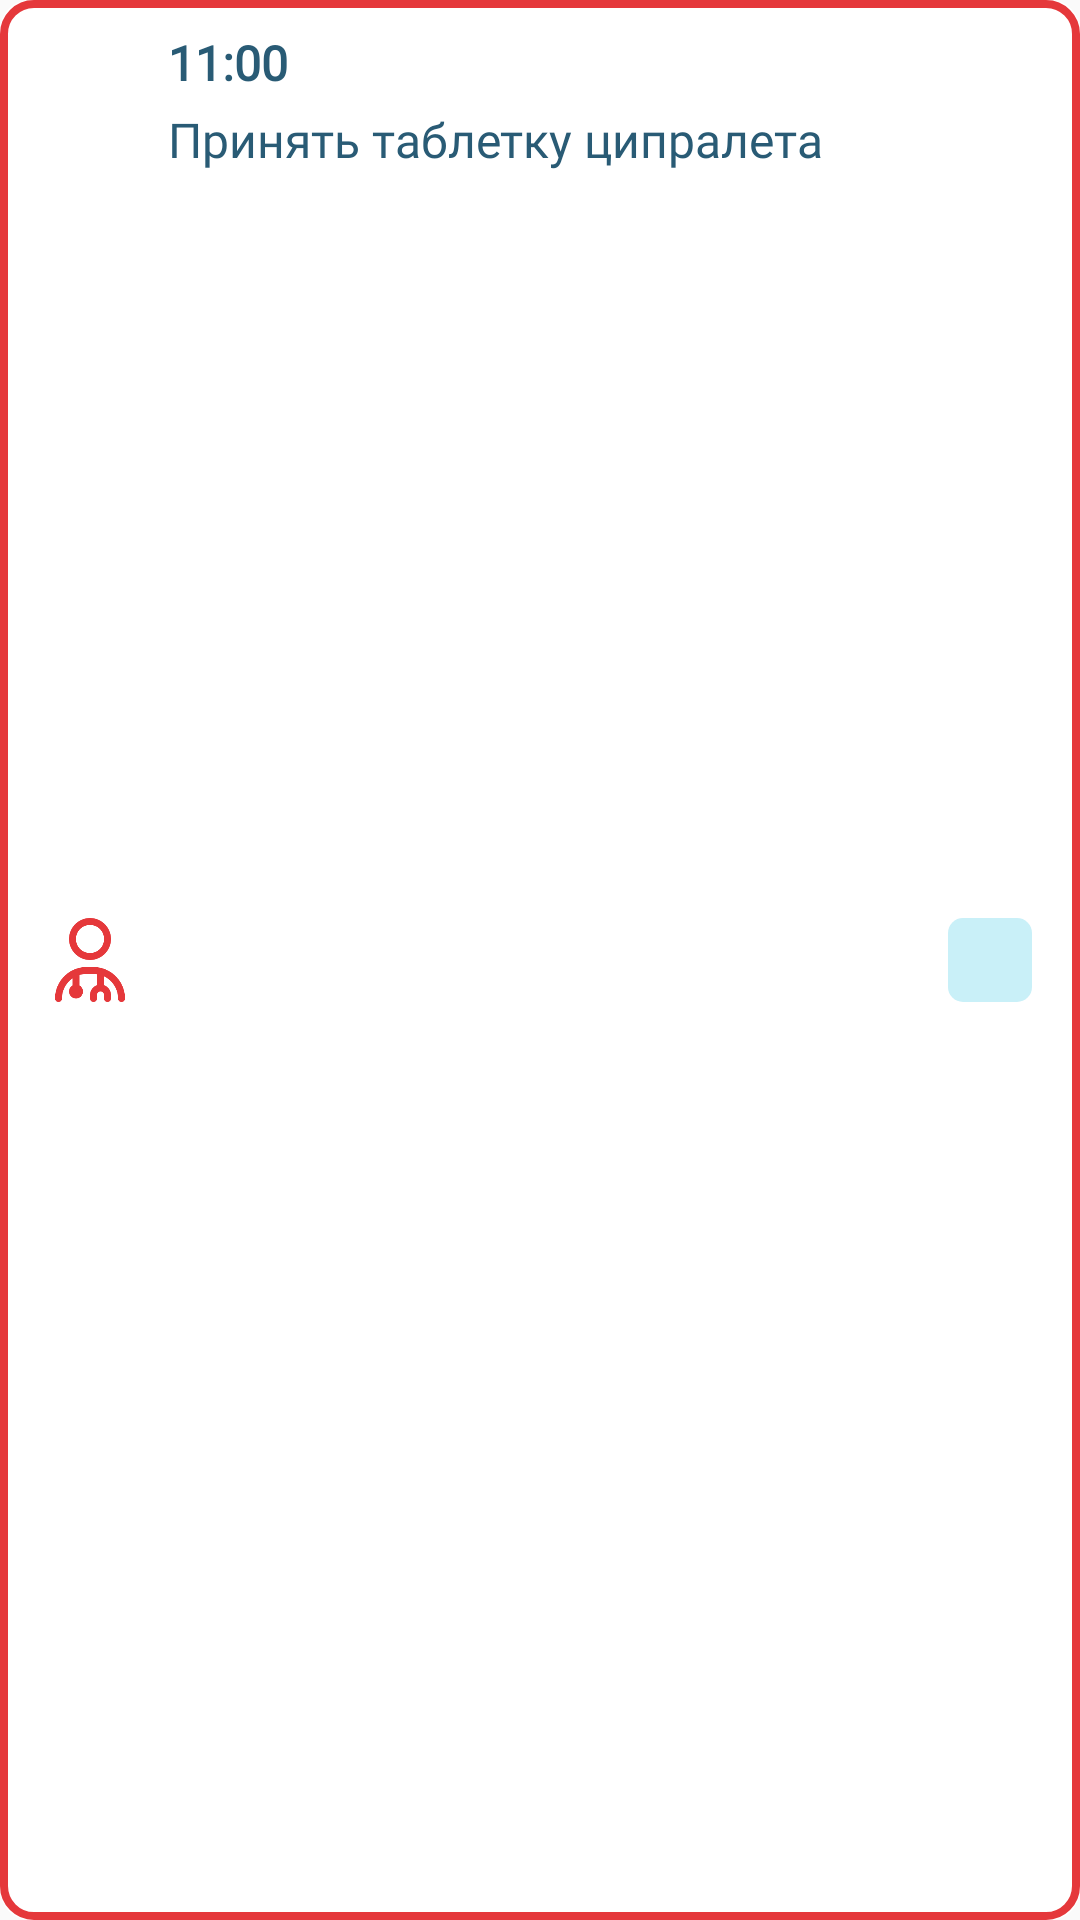

Icon bounding boxes for this 1080px×1920px phone screenshot, format (x1, y1, x2, y2):
event doctor: (55, 918, 125, 1002)
